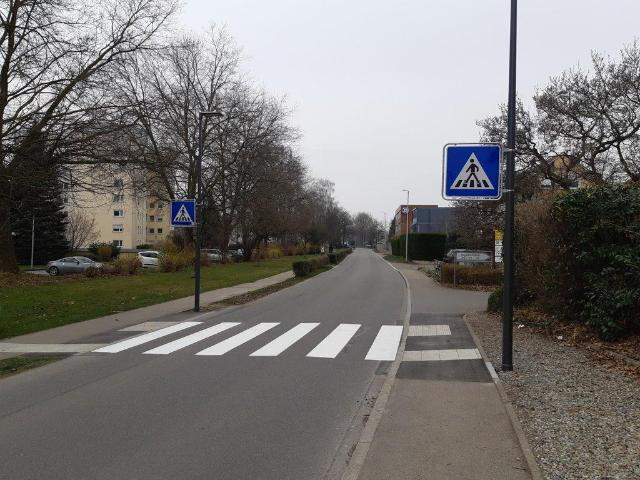crosswalk-sign: (443, 143, 503, 201), (171, 200, 196, 228)
